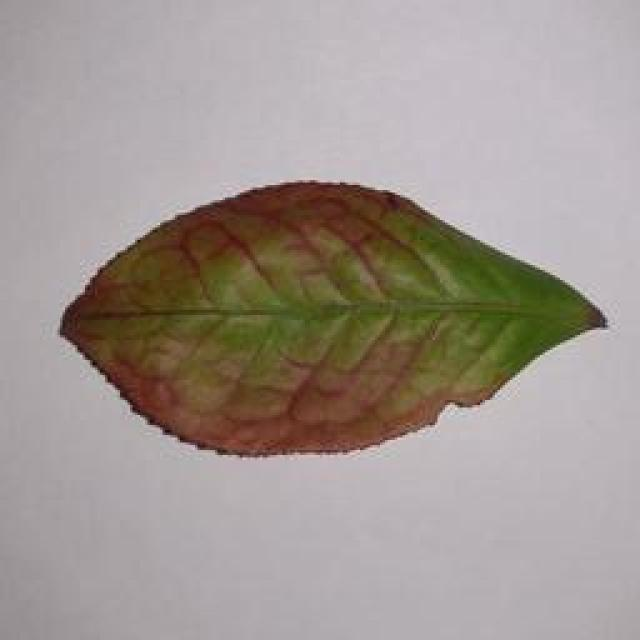Red Leaf Spot: (60, 172, 612, 461)
